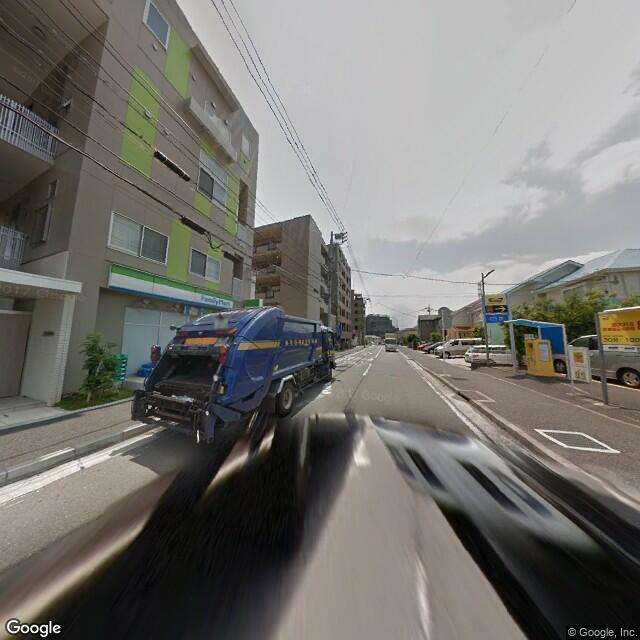family_mart: (106, 264, 234, 314)
